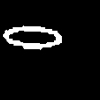chain: (3, 26, 61, 49)
